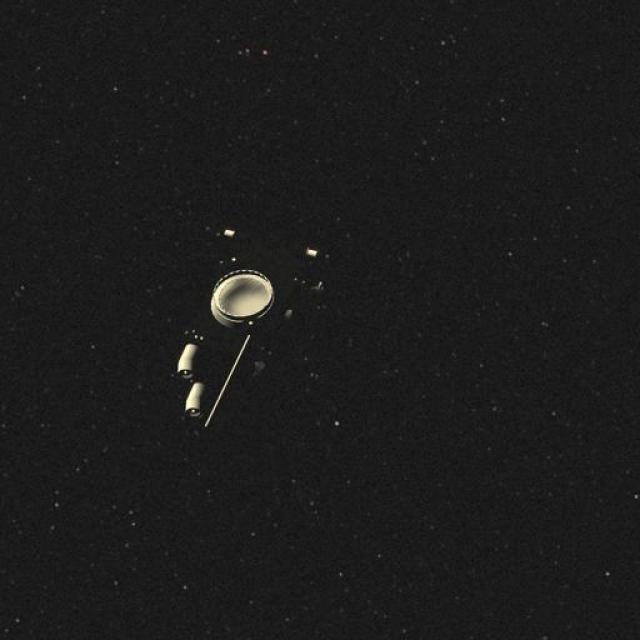proba_3_csc: (155, 211, 374, 468)
